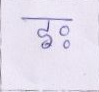anusvara: (60, 26, 69, 36)
